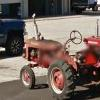Tractor: (20, 23, 94, 100)
